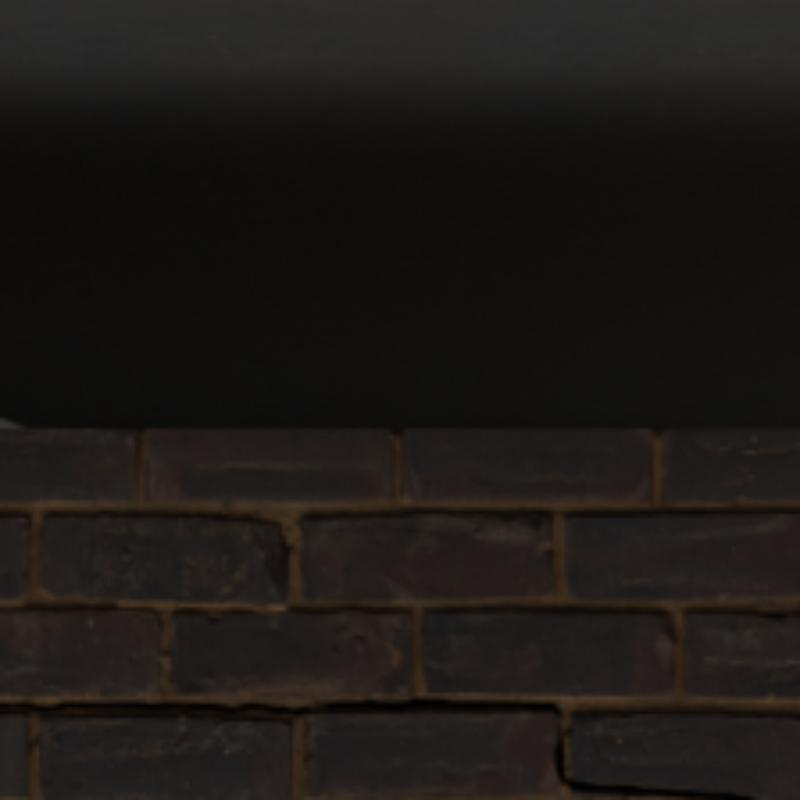crack: (0, 696, 754, 796)
